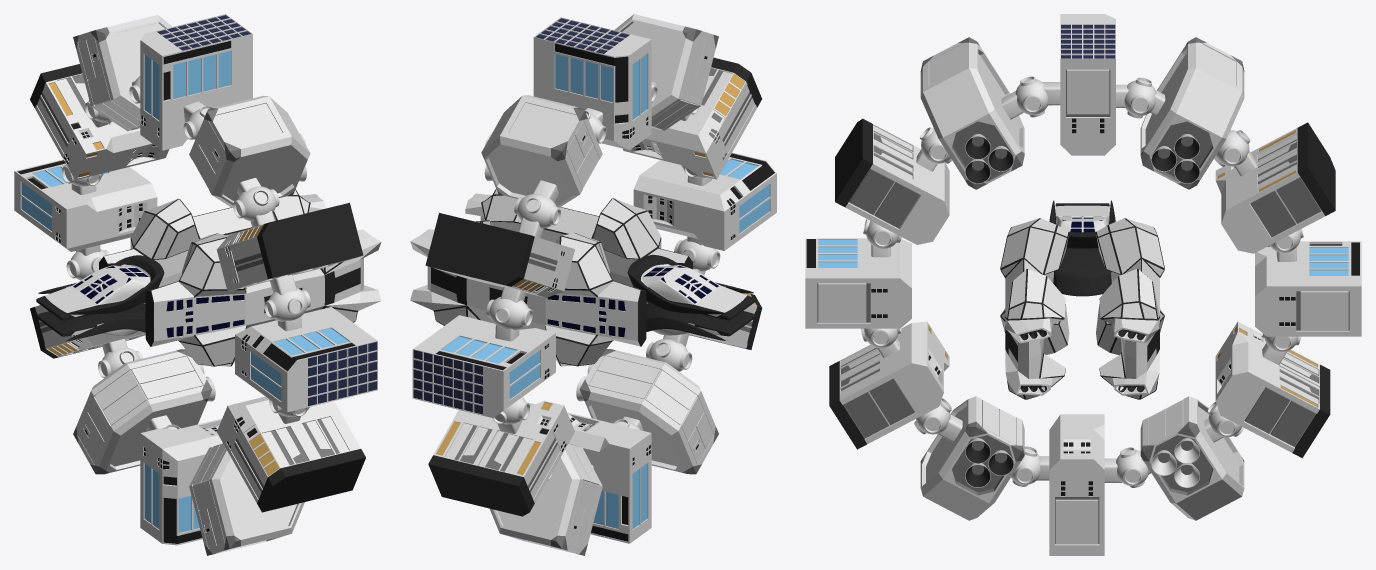
The model's file is Interstellar.gltf.
3 views of the same model, side by side, from view 1: azimuth 30°, elevation 25°; view 2: azimuth 150°, elevation 25°; view 3: azimuth 270°, elevation 25° (orthographic).
Parts seen in each view (by area): view 1: livingmodule.001, Plane.005, populationBOMB.004, powermodule.001, powermodule.003, populationBOMB.003, populationBOMB.002, Plane.002, powermodule.004, powermodule.002, populationBOMB.001, Sphere.009 (+4 smaller); view 2: livingmodule.001, Plane.005, populationBOMB.001, powermodule.004, powermodule.002, populationBOMB.002, populationBOMB.003, Plane.002, powermodule.001, powermodule.003, Sphere.005, Sphere.006 (+4 smaller); view 3: livingmodule.001, Plane.005, populationBOMB.002, populationBOMB.001, populationBOMB.003, populationBOMB.004, powermodule.002, powermodule.003, powermodule.004, powermodule.001, Plane.002, Cone.003 (+12 smaller).
Part boxes in pixels (box(x1,y1,x2,y2)): livingmodule.001: box(14, 14, 377, 545); Plane.005: box(99, 189, 381, 366); populationBOMB.004: box(217, 396, 365, 512); powermodule.001: box(73, 349, 212, 474); powermodule.003: box(189, 95, 310, 207); populationBOMB.003: box(216, 202, 363, 291); populationBOMB.002: box(30, 64, 169, 179); Plane.002: box(36, 255, 164, 341); powermodule.004: box(189, 443, 304, 555); powermodule.002: box(73, 15, 172, 131); populationBOMB.001: box(30, 305, 145, 358); Sphere.009: box(233, 186, 279, 221); livingmodule.001: box(412, 17, 776, 543); Plane.005: box(410, 189, 692, 366); populationBOMB.001: box(428, 400, 574, 516); powermodule.004: box(579, 349, 718, 474); powermodule.002: box(481, 95, 602, 207); populationBOMB.002: box(425, 213, 574, 297); populationBOMB.003: box(623, 57, 761, 179); Plane.002: box(627, 254, 755, 340); powermodule.001: box(490, 443, 602, 555); powermodule.003: box(614, 14, 718, 130); Sphere.005: box(486, 297, 532, 330); Sphere.006: box(514, 194, 560, 228); livingmodule.001: box(805, 14, 1361, 555); Plane.005: box(1000, 218, 1164, 399); populationBOMB.002: box(1215, 122, 1335, 253); populationBOMB.001: box(1215, 321, 1330, 458); populationBOMB.003: box(835, 118, 949, 244); populationBOMB.004: box(829, 321, 949, 449); powermodule.002: box(1140, 37, 1244, 189); powermodule.003: box(920, 37, 1024, 189); powermodule.004: box(920, 396, 1024, 520); powermodule.001: box(1140, 396, 1244, 520); Plane.002: box(1049, 200, 1115, 296); Cone.003: box(1151, 134, 1199, 183).
Size of the model in its own units: 13.24 by 20.58 by 20.87.
